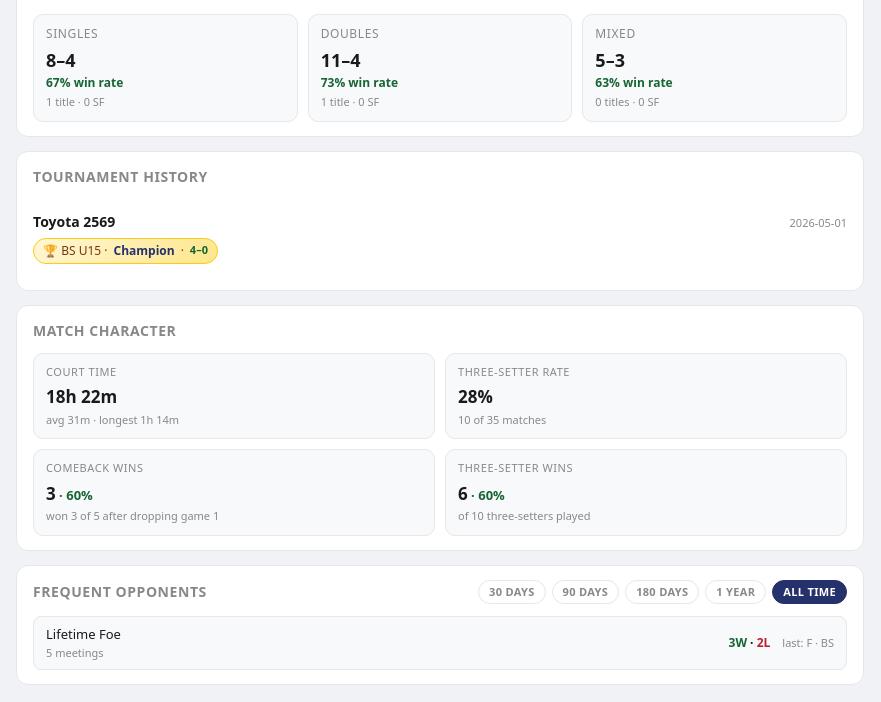
it: PlayerProfileView › switching to 30 Days shows the windowed list
(page scrolled)
Click the tab "30 Days" at (512, 592), box [478,580,546,604]
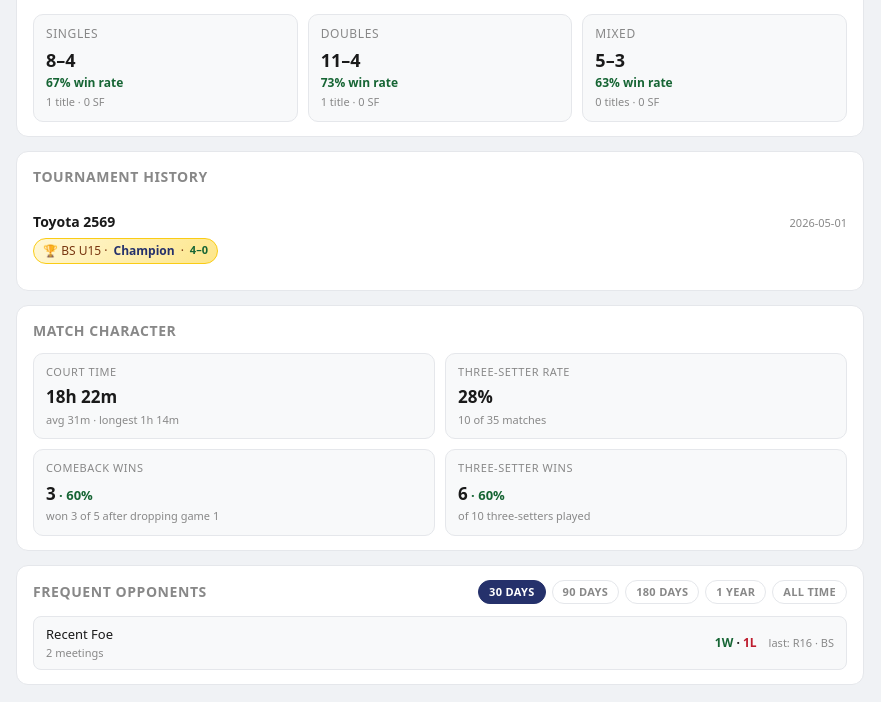
Expected: the text "Recent Foe" is shown, [46,625,113,643]
Expected: the link "Lifetime Foe" is gone
